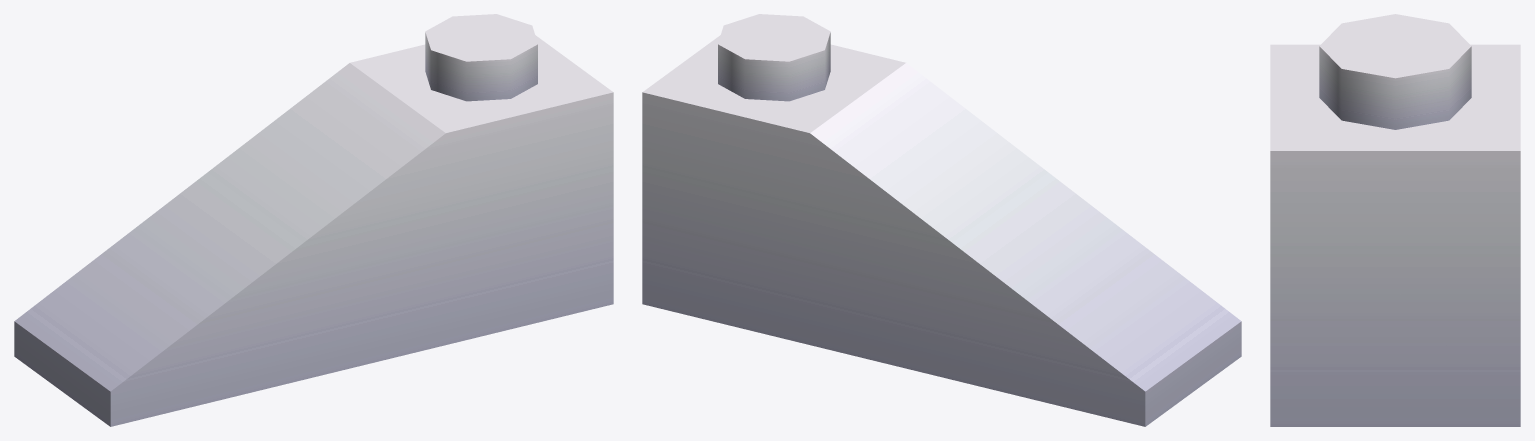
Rendered from round-lq-brick-slope-3x1.glb.
3 renders of one model, left to right at view 1: azimuth 30°, elevation 25°; view 2: azimuth 150°, elevation 25°; view 3: azimuth 270°, elevation 25°, orthographic. The views are drawn at different scales.
Parts seen in each view (by area): view 1: round-lq-brick-slope-3x1; view 2: round-lq-brick-slope-3x1; view 3: round-lq-brick-slope-3x1.
Part boxes in pixels (x1=…): round-lq-brick-slope-3x1: x1=14, y1=14, x2=613, y2=426; round-lq-brick-slope-3x1: x1=642, y1=14, x2=1241, y2=426; round-lq-brick-slope-3x1: x1=1270, y1=14, x2=1520, y2=426.
Size of the model in its own units: 0.2385 by 0.114 by 0.079.
Materials: 1 (1 with a texture image).
